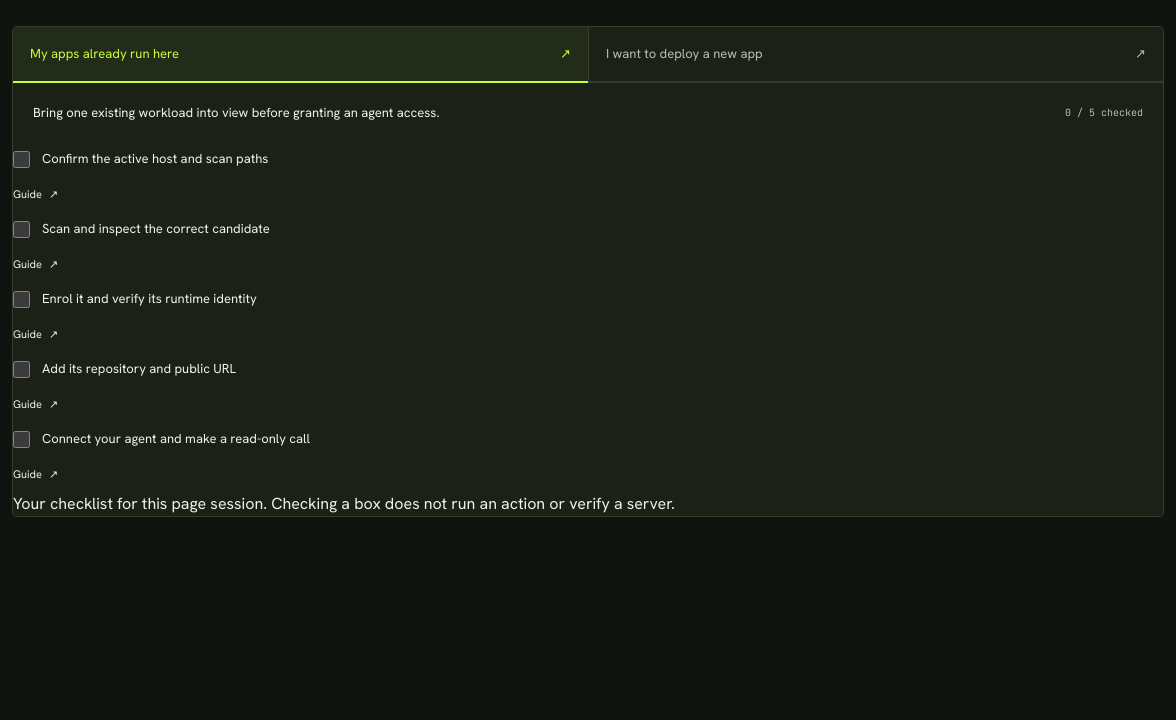
The self-contained adoption journey › keeps the existing-app and new-app checklists independent
Step 1. Click the checkbox labelled "Confirm the active host and scan paths" → (22, 160), box x1=13 y1=151 x2=30 y2=168
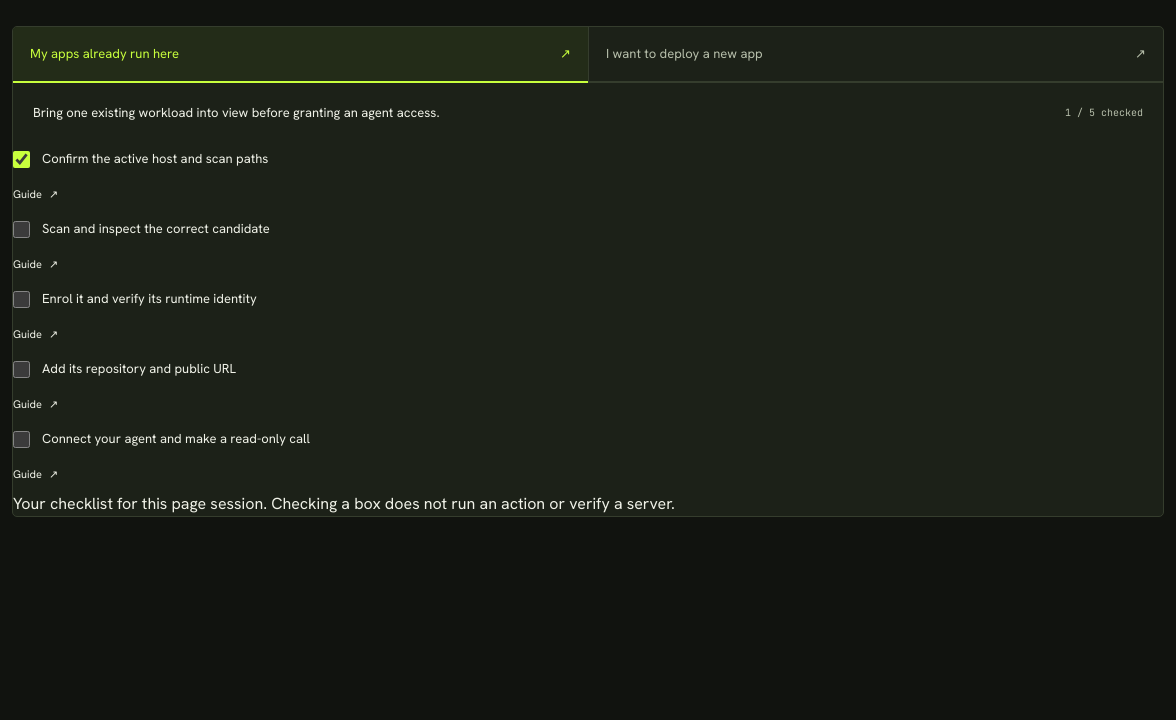
Check: the text "1 / 5 checked" is shown, box x1=1065 y1=105 x2=1143 y2=120
Step 2. Click the button "I want to deploy a new app ↗︎" → (684, 54), box x1=588 y1=27 x2=1163 y2=82
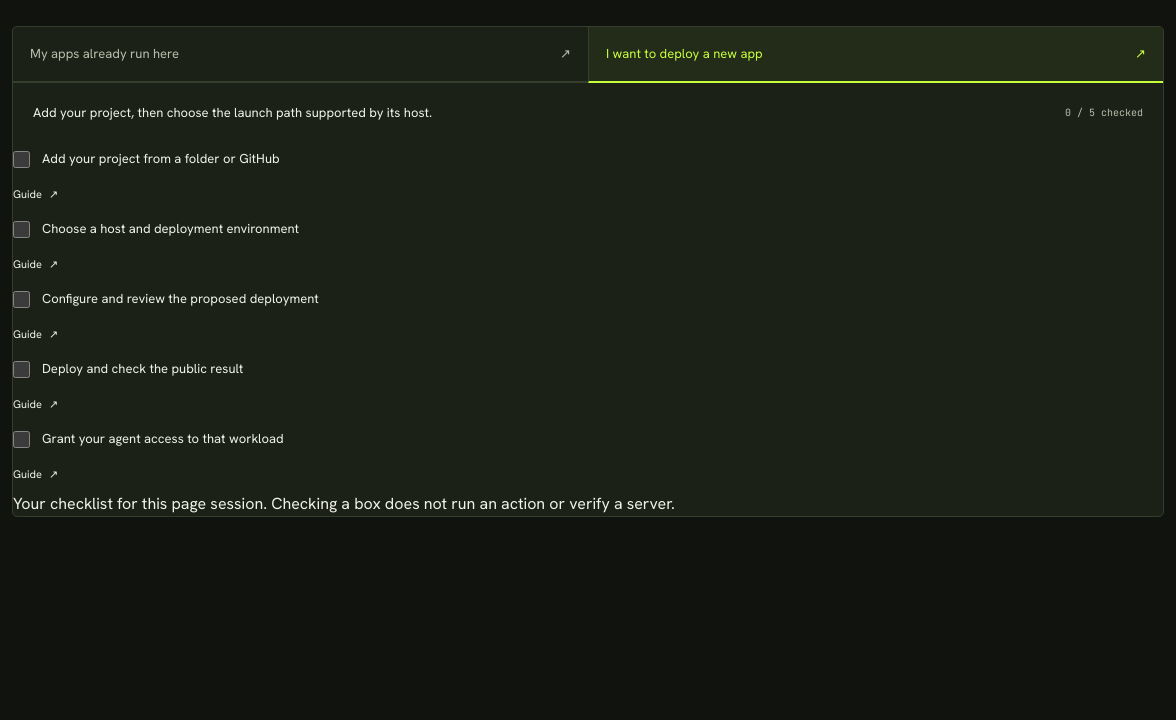
Check: the text "0 / 5 checked" is shown, box x1=1065 y1=105 x2=1143 y2=120
Step 3. Click the button "My apps already run here ↗︎" → (105, 54), box x1=13 y1=27 x2=588 y2=82
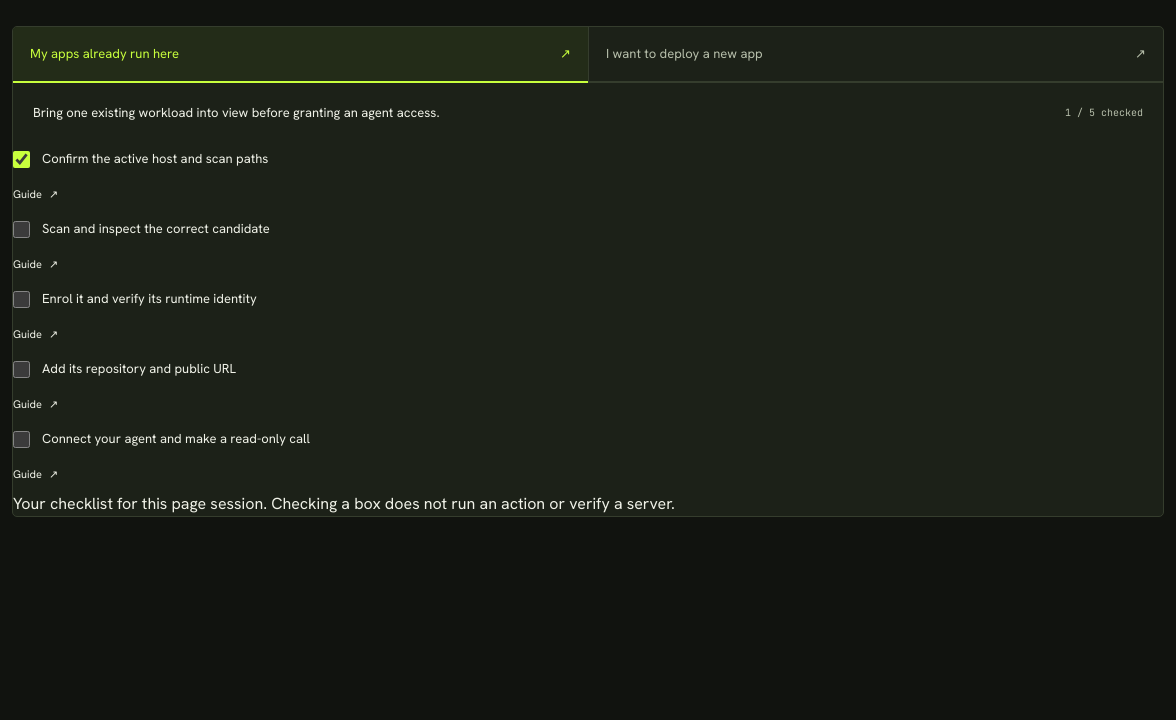
Check: the text "does not run an action or verify a server" is shown, box x1=13 y1=493 x2=675 y2=514
Check: the checkbox labelled "Confirm the active host and scan paths" is checked, box x1=13 y1=151 x2=30 y2=168
